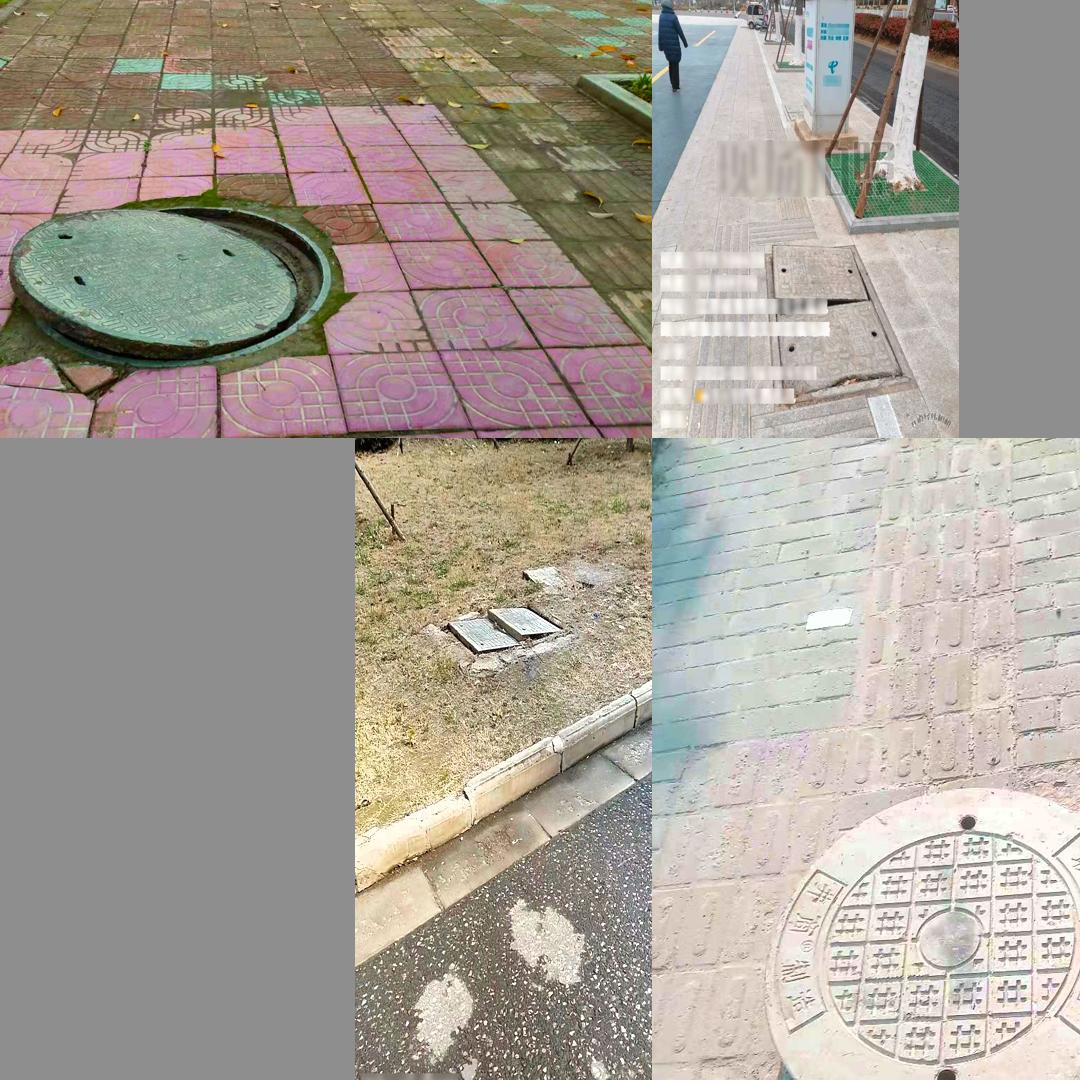uncovered: (768, 784, 1080, 1080), (4, 205, 332, 370), (761, 241, 919, 409), (446, 604, 563, 659)
